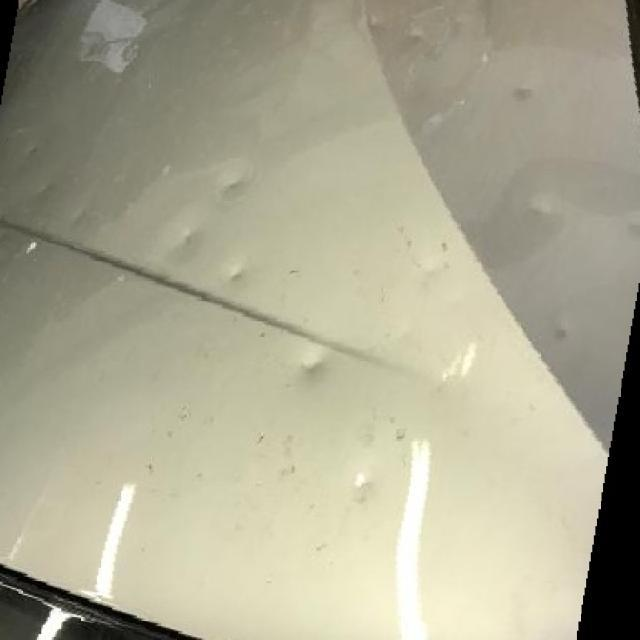dent: (530, 195, 566, 232), (298, 350, 332, 384), (350, 467, 383, 498), (218, 172, 252, 201), (551, 320, 577, 351), (510, 80, 538, 106), (227, 266, 250, 288), (180, 231, 200, 254), (39, 181, 55, 197), (24, 144, 37, 158)
